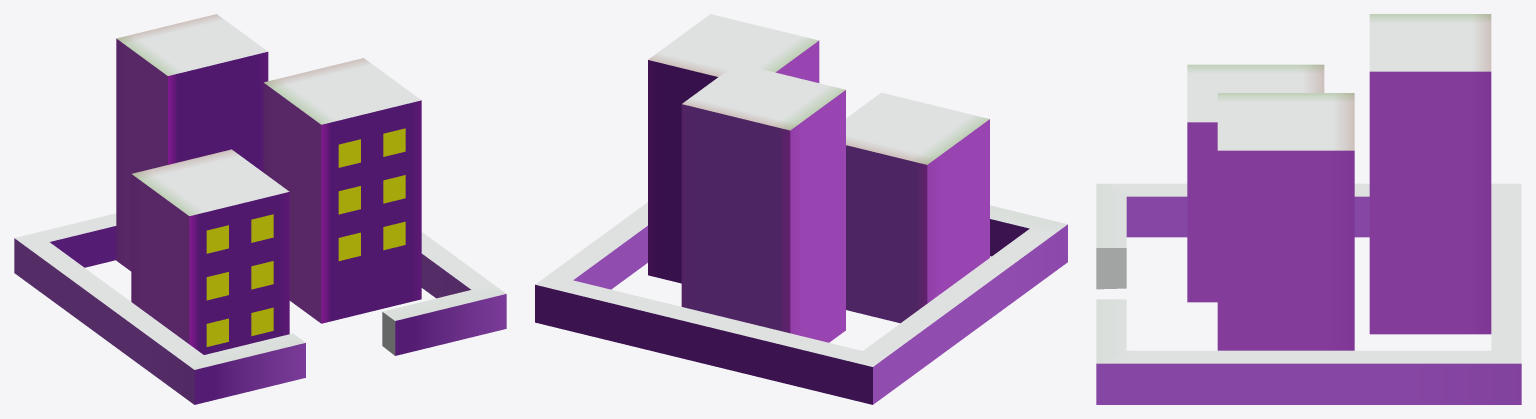
File: City.PurpleLightning.Snow.glb
3 views of the same model, side by side, from view 1: azimuth 30°, elevation 25°; view 2: azimuth 150°, elevation 25°; view 3: azimuth 270°, elevation 25° (orthographic). The views are drawn at different scales.
Visible parts, largest first — view 1: City.PurpleLightning.Snow; view 2: City.PurpleLightning.Snow; view 3: City.PurpleLightning.Snow.
Boxes of the visible parts, x1,y1,x2,y2 form: City.PurpleLightning.Snow: [14, 14, 506, 404]; City.PurpleLightning.Snow: [535, 14, 1067, 404]; City.PurpleLightning.Snow: [1096, 14, 1521, 404].
Bounding box in the file's own units: 2.8 × 1.91 × 2.8.
2 materials, 1 textured.
